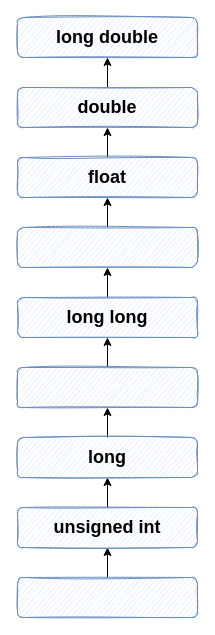
Some shapes in this 215 by 635 pixel diagram are drawn without their labels. The box of each missing label's shape, as (x1, y1, x2, y2) in pixels:
int: (16, 576, 198, 618)
unsigned long: (16, 366, 198, 408)
unsigned long long: (16, 226, 198, 268)
